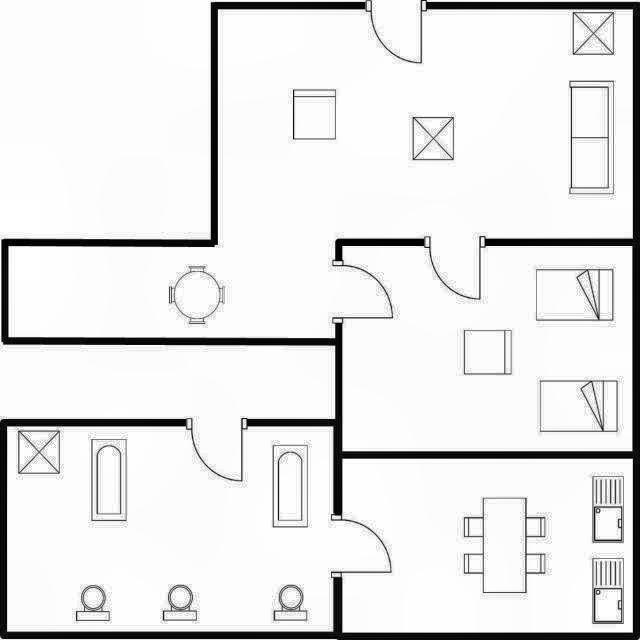room: (8, 9, 633, 338), (7, 426, 333, 632), (342, 246, 633, 451), (342, 459, 633, 633)
